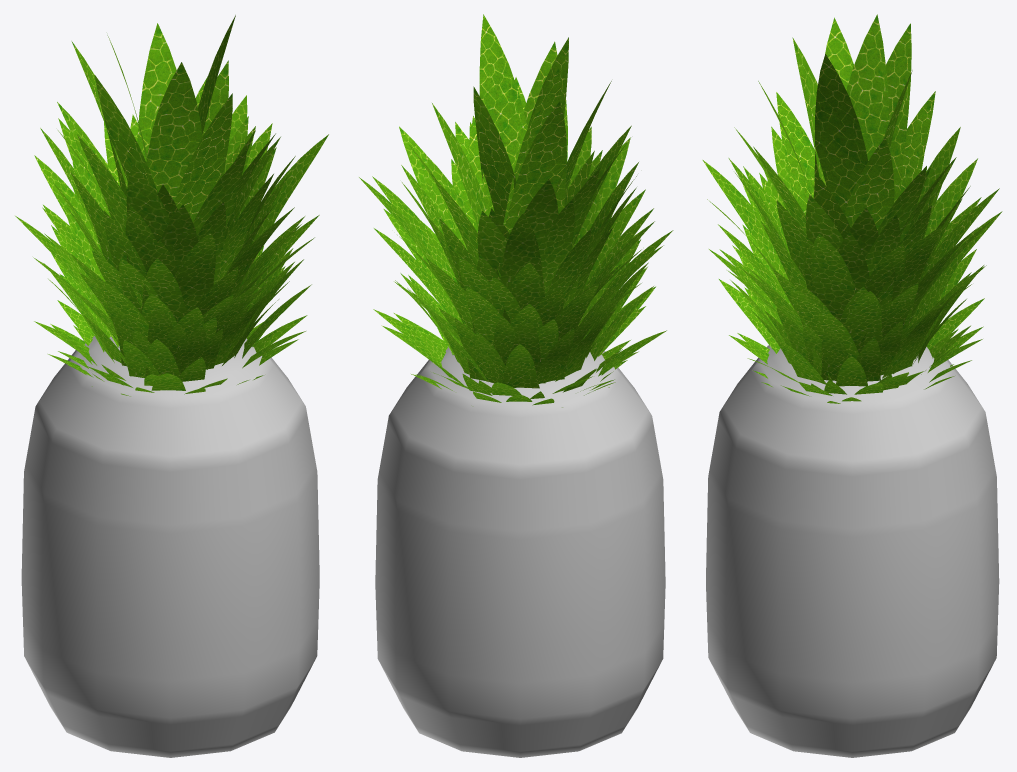
Rendered from pineapple.fbx.
3 renders of one model, left to right at view 1: azimuth 30°, elevation 25°; view 2: azimuth 150°, elevation 25°; view 3: azimuth 270°, elevation 25°, orthographic. The views are drawn at different scales.
Parts seen in each view (by area): view 1: Base, Leaves; view 2: Base, Leaves; view 3: Base, Leaves.
Boxes of the visible parts, bbox=[...] form: Base: bbox=[21, 336, 319, 757]; Leaves: bbox=[15, 15, 328, 396]; Base: bbox=[375, 346, 665, 757]; Leaves: bbox=[359, 14, 673, 407]; Base: bbox=[706, 345, 999, 757]; Leaves: bbox=[702, 14, 1002, 403].
Bounding box in the file's own units: 260 × 634 × 255.
